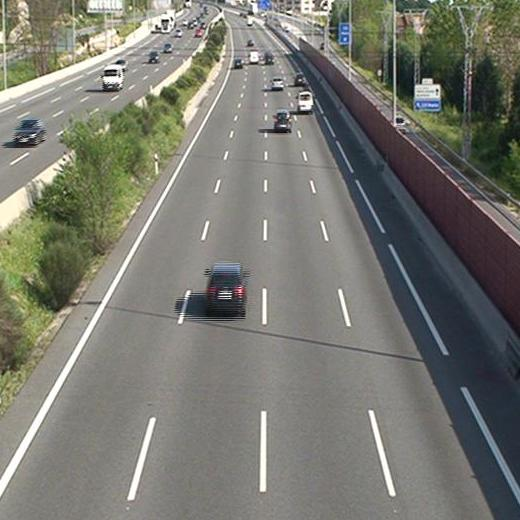car: (207, 266, 246, 308), (274, 111, 291, 129), (294, 73, 305, 85), (272, 79, 282, 89), (265, 53, 274, 63), (233, 58, 242, 66)
van: (297, 91, 313, 112), (248, 51, 259, 65)
